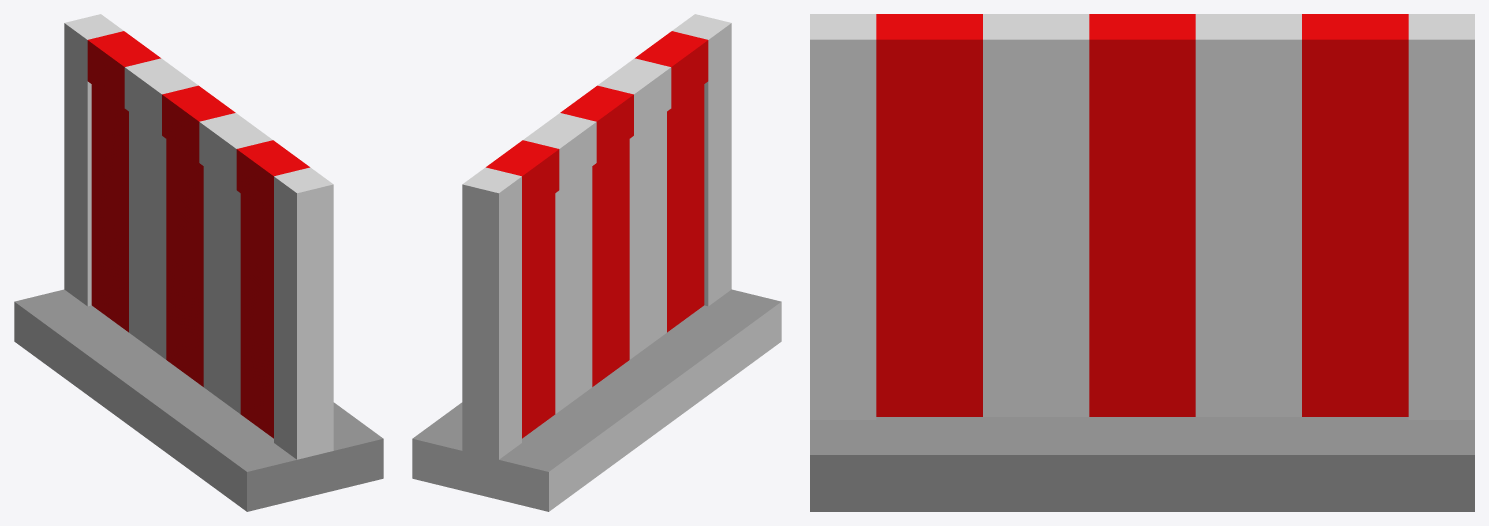
File: engel1.fbx
3 views of the same model, side by side, from view 1: azimuth 30°, elevation 25°; view 2: azimuth 150°, elevation 25°; view 3: azimuth 270°, elevation 25° (orthographic). The views are drawn at different scales.
Visible parts, largest first — view 1: Cube; view 2: Cube; view 3: Cube.
Part boxes in pixels (box(x1,y1,x2,y2)): Cube: box(14, 14, 383, 511); Cube: box(412, 14, 781, 511); Cube: box(810, 14, 1474, 511).
Size of the model in its own units: 33.85 by 72.63 by 100.
